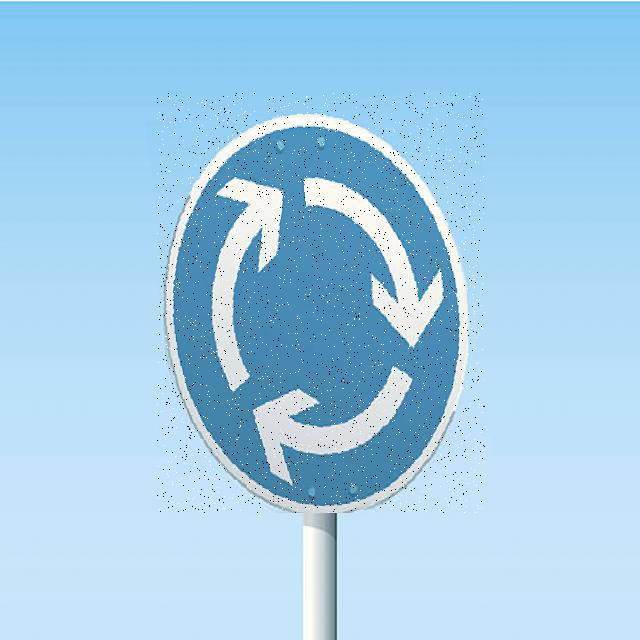roundabout: (157, 93, 485, 513)
